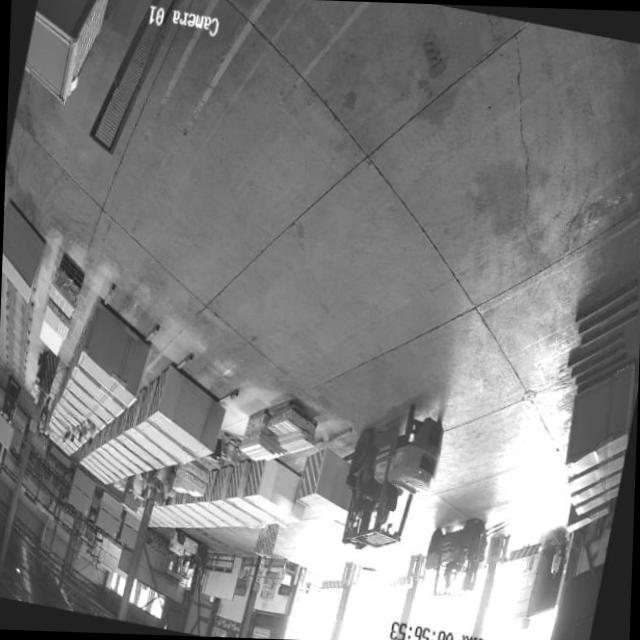forklift: (332, 391, 450, 571), (415, 509, 492, 612), (161, 525, 210, 589)
person: (548, 530, 566, 579), (162, 464, 180, 506), (82, 418, 99, 447), (137, 470, 147, 497), (70, 423, 80, 442), (77, 424, 86, 442)
